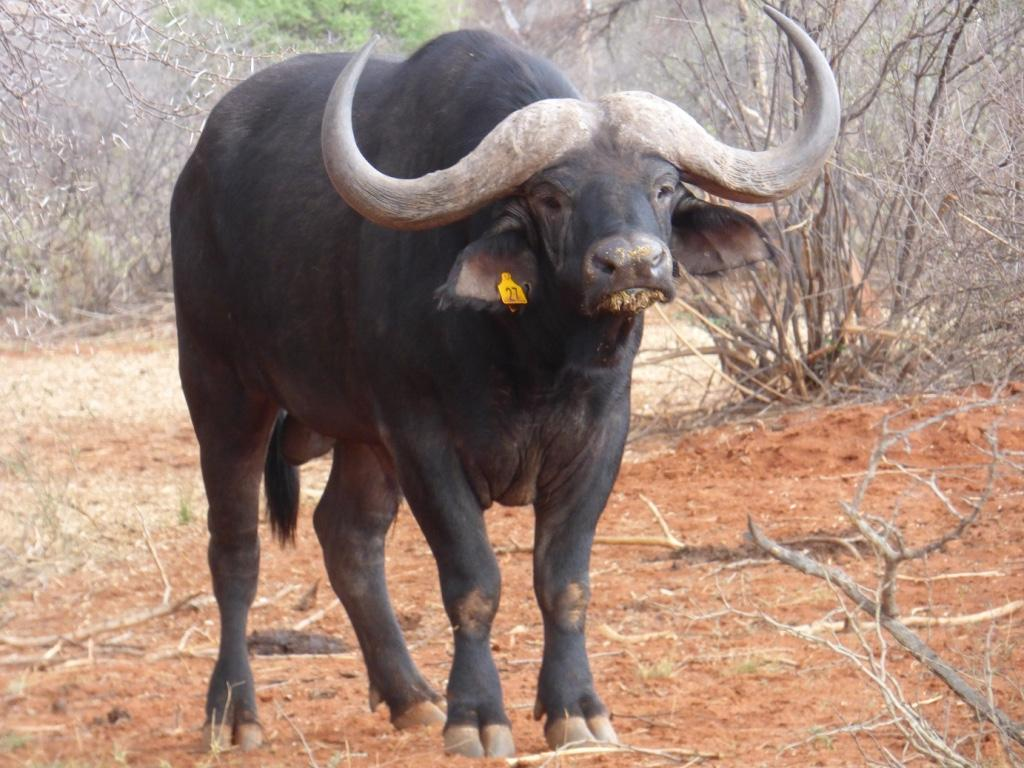Buffalo: (152, 21, 829, 768)
